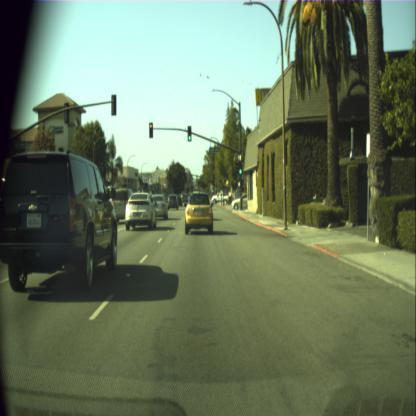Green: (186, 126, 192, 142), (238, 162, 242, 175)
RedLeft: (148, 122, 152, 138)
